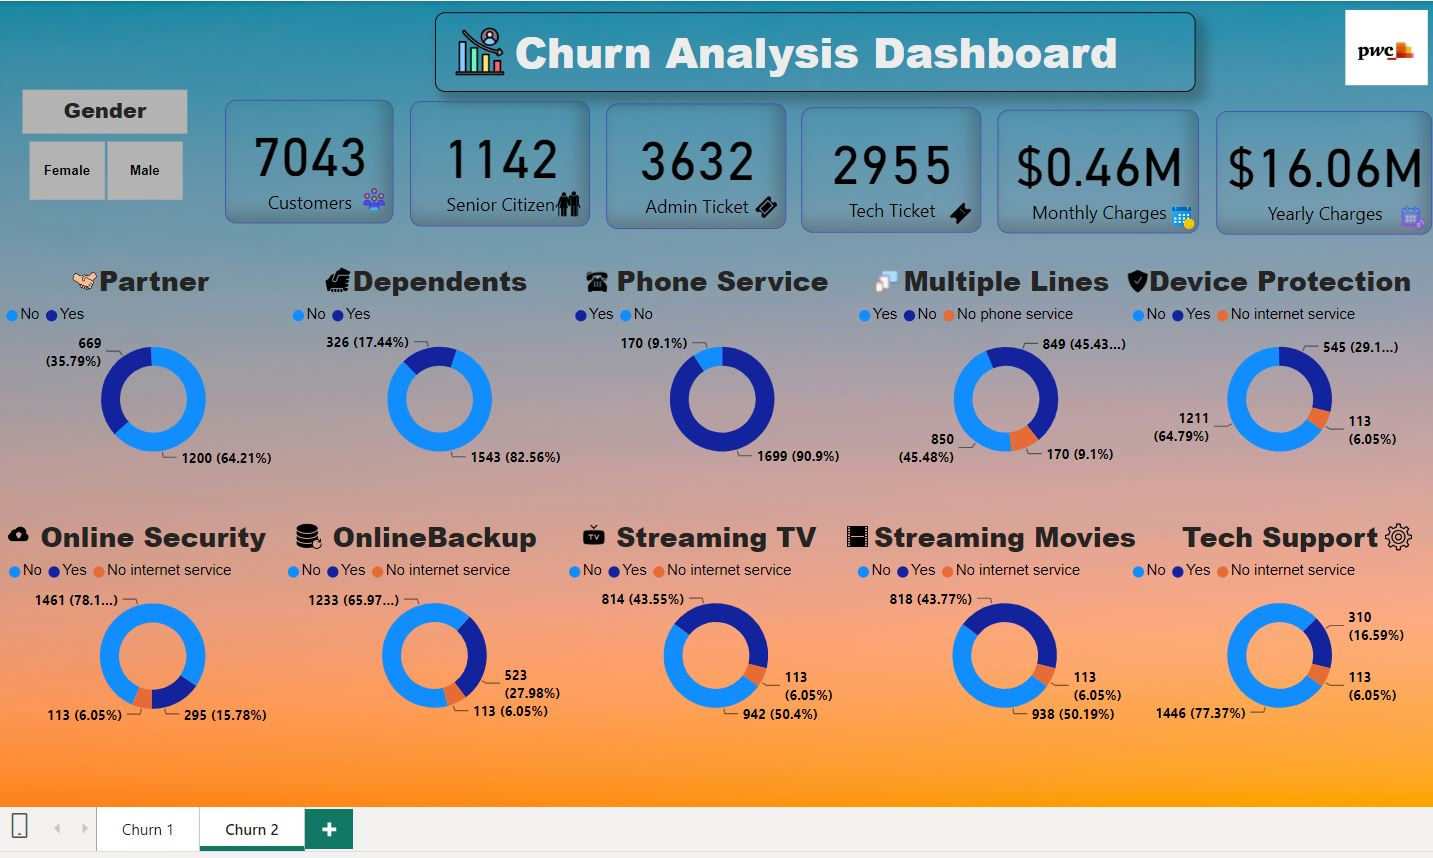

This screenshot's page, from the dashboard's own definition file:
{"tool":"powerbi","page":{"name":"Churn 2","canvas":[1280,720],"ordinal":1},"visuals":[{"type":"textbox","box":[388.4,10.5,679.1,70.9],"z":0},{"type":"card","fields":{"Values":["All Measurement.Total employee"]},"box":[201.2,87.7,150,110.5],"z":0,"group":"g2"},{"type":"slicer","title":"Gender","fields":{"Values":["01 Churn-Dataset.gender"]},"box":[0,118.6,187.2,66.3],"z":0,"group":"g1"},{"type":"image","box":[1196.5,0,83.7,82.6],"z":1000},{"type":"textbox","box":[19.7,79.1,146.9,39.5],"z":1000,"group":"g1"},{"type":"card","fields":{"Values":["Sum(01 Churn-Dataset.MonthlyCharges)"]},"box":[891.5,96.5,180,110.5],"z":1000,"group":"g2"},{"type":"image","box":[397.7,17.4,61.6,54.7],"z":2000},{"type":"card","fields":{"Values":["Sum(01 Churn-Dataset.TotalCharges)"]},"box":[1086.2,97.8,193,110.5],"z":2000,"group":"g2"},{"type":"card","fields":{"Values":["All Measurement.SeniorCitizenCount"]},"box":[365.9,89,160.5,111.6],"z":3000,"group":"g2"},{"type":"pieChart","title":" Partner","fields":{"Y":["All Measurement.Count churns"],"Category":["01 Churn-Dataset.Partner"]},"box":[0,232.6,274.4,188.4],"z":3000},{"type":"card","fields":{"Values":["All Measurement.Admin Ticket"]},"box":[541.1,91.5,160.5,111.6],"z":4000,"group":"g2"},{"type":"pieChart","title":"Dependents","fields":{"Y":["All Measurement.Count churns"],"Category":["01 Churn-Dataset.Dependents"]},"box":[255.3,232.6,274.4,188.4],"z":4000},{"type":"card","fields":{"Values":["All Measurement.Tech Ticket"]},"box":[716.3,94,160.5,111.6],"z":5000,"group":"g2"},{"type":"pieChart","title":" Phone Service","fields":{"Y":["All Measurement.Count churns"],"Category":["01 Churn-Dataset.PhoneService"]},"box":[508.3,232.6,274.4,188.4],"z":5000},{"type":"image","box":[839.6,174.4,37.2,29.1],"z":6000,"group":"g2"},{"type":"pieChart","title":"Multiple Lines","fields":{"Y":["All Measurement.Count churns"],"Category":["01 Churn-Dataset.MultipleLines"]},"box":[760.9,232.6,274.4,188.4],"z":6000},{"type":"image","box":[667.5,168.6,33.7,29.1],"z":7000,"group":"g2"},{"type":"donutChart","title":"Online Security","fields":{"Y":["All Measurement.Count churns"],"Category":["01 Churn-Dataset.OnlineSecurity"]},"box":[2.3,460.5,268.6,189.5],"z":7000},{"type":"image","box":[489.6,165.1,37.2,32.6],"z":8000,"group":"g2"},{"type":"pieChart","title":"OnlineBackup","fields":{"Y":["All Measurement.Count churns"],"Category":["01 Churn-Dataset.OnlineBackup"]},"box":[251.2,460.5,274,188.4],"z":8000},{"type":"image","box":[1039.6,175.6,32.6,32.6],"z":9000,"group":"g2"},{"type":"pieChart","title":" Device Protection","fields":{"Y":["All Measurement.Count churns"],"Category":["01 Churn-Dataset.DeviceProtection"]},"box":[1005.8,232.6,274.4,188.4],"z":9000},{"type":"image","box":[1245.4,175.6,34.9,34.9],"z":10000,"group":"g2"},{"type":"pieChart","title":" Streaming TV","fields":{"Y":["All Measurement.Count churns"],"Category":["01 Churn-Dataset.StreamingTV"]},"box":[502.3,460.5,274.4,188.4],"z":10000},{"type":"image","box":[318.6,160.5,32.6,32.6],"z":11000,"group":"g2"},{"type":"pieChart","title":" Streaming Movies","fields":{"Y":["All Measurement.Count churns"],"Category":["01 Churn-Dataset.StreamingMovies"]},"box":[760.5,460.5,274.4,188.4],"z":11000},{"type":"pieChart","title":"Tech Support","fields":{"Y":["All Measurement.Count churns"],"Category":["01 Churn-Dataset.TechSupport"]},"box":[1005.8,460.5,274.4,188.4],"z":12000},{"type":"group","id":"g1","title":"Group 1","box":[0,79.1,187.2,105.7],"z":13000},{"type":"group","id":"g2","title":"Group 3","box":[201.2,87.7,1079.1,122.8],"z":15000},{"type":"image","box":[1231.4,460.5,35,35],"z":16000},{"type":"image","box":[514,460.5,33.7,32.6],"z":17000},{"type":"image","box":[748.8,461.6,33.7,32.6],"z":18000},{"type":"image","box":[260.5,461.6,32.6,32.6],"z":19000},{"type":"image","box":[0,460.5,32.6,31.4],"z":20000},{"type":"image","box":[59.3,232.6,33.7,32.6],"z":21000},{"type":"image","box":[286,233.7,32.6,32.6],"z":22000},{"type":"image","box":[517.4,236,30.2,30.2],"z":23000},{"type":"image","box":[776.7,236,30.2,30.2],"z":24000},{"type":"image","box":[1001.2,236,30,30],"z":25000}]}

Visuals, with their boxes on the page's 1280x720 design canvas (x1, y1, x2, y2). These are canvas units, not pixel positions in the 1433x858 screenshot, which may show the page scaled, cropped or inside an application window:
textbox: Rect(388, 10, 1068, 81)
card - All Measurement.Total employee: Rect(201, 88, 351, 198)
"Gender" slicer: Rect(0, 119, 187, 185)
image: Rect(1196, 0, 1280, 83)
textbox: Rect(20, 79, 167, 119)
card - Sum(01 Churn-Dataset.MonthlyCharges): Rect(892, 96, 1072, 207)
image: Rect(398, 17, 459, 72)
card - Sum(01 Churn-Dataset.TotalCharges): Rect(1086, 98, 1279, 208)
card - All Measurement.SeniorCitizenCount: Rect(366, 89, 526, 201)
" Partner" pieChart: Rect(0, 233, 274, 421)
card - All Measurement.Admin Ticket: Rect(541, 92, 702, 203)
"Dependents" pieChart: Rect(255, 233, 530, 421)
card - All Measurement.Tech Ticket: Rect(716, 94, 877, 206)
" Phone Service" pieChart: Rect(508, 233, 783, 421)
image: Rect(840, 174, 877, 204)
"Multiple Lines" pieChart: Rect(761, 233, 1035, 421)
image: Rect(668, 169, 701, 198)
"Online Security" donutChart: Rect(2, 460, 271, 650)
image: Rect(490, 165, 527, 198)
"OnlineBackup" pieChart: Rect(251, 460, 525, 649)
image: Rect(1040, 176, 1072, 208)
" Device Protection" pieChart: Rect(1006, 233, 1280, 421)
image: Rect(1245, 176, 1280, 210)
" Streaming TV" pieChart: Rect(502, 460, 777, 649)
image: Rect(319, 160, 351, 193)
" Streaming Movies" pieChart: Rect(760, 460, 1035, 649)
"Tech Support" pieChart: Rect(1006, 460, 1280, 649)
"Group 1" group: Rect(0, 79, 187, 185)
"Group 3" group: Rect(201, 88, 1280, 210)
image: Rect(1231, 460, 1266, 496)
image: Rect(514, 460, 548, 493)
image: Rect(749, 462, 782, 494)
image: Rect(260, 462, 293, 494)
image: Rect(0, 460, 33, 492)
image: Rect(59, 233, 93, 265)
image: Rect(286, 234, 319, 266)
image: Rect(517, 236, 548, 266)
image: Rect(777, 236, 807, 266)
image: Rect(1001, 236, 1031, 266)
